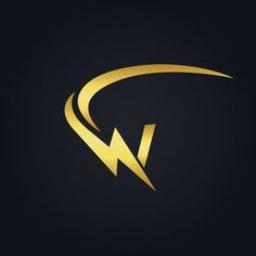w: (64, 91, 168, 193)
